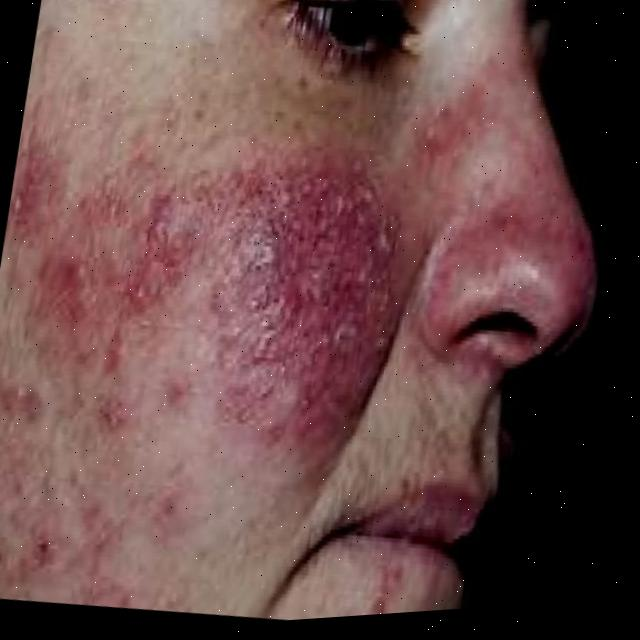Rosacea: (0, 106, 394, 506), (412, 47, 622, 276)
